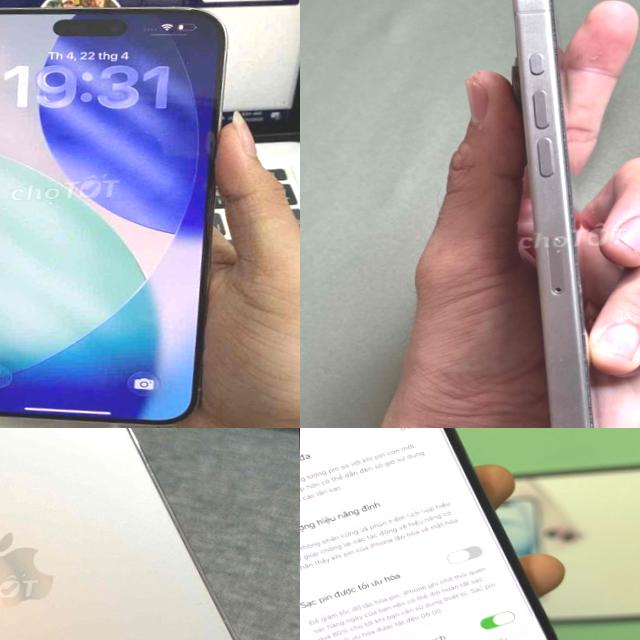gen_12_13: (0, 428, 300, 640)
gen_15: (0, 0, 226, 428), (467, 0, 640, 428), (300, 428, 563, 640)
